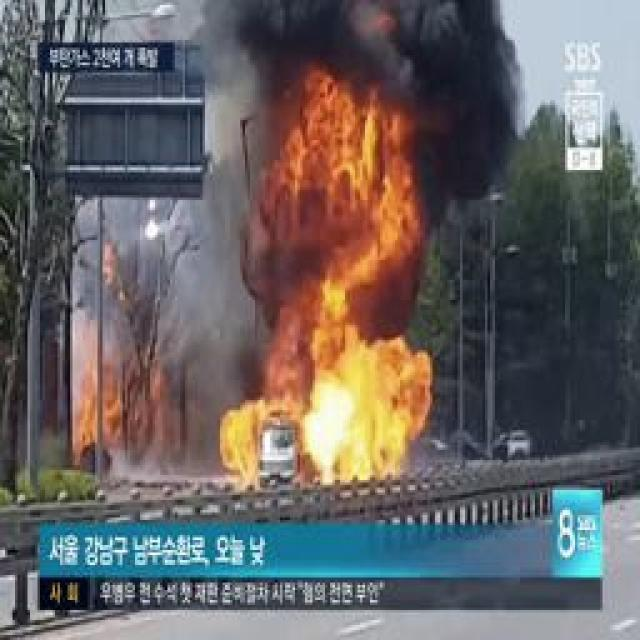Fire: (282, 321, 433, 488), (215, 402, 281, 486), (75, 391, 96, 449)
